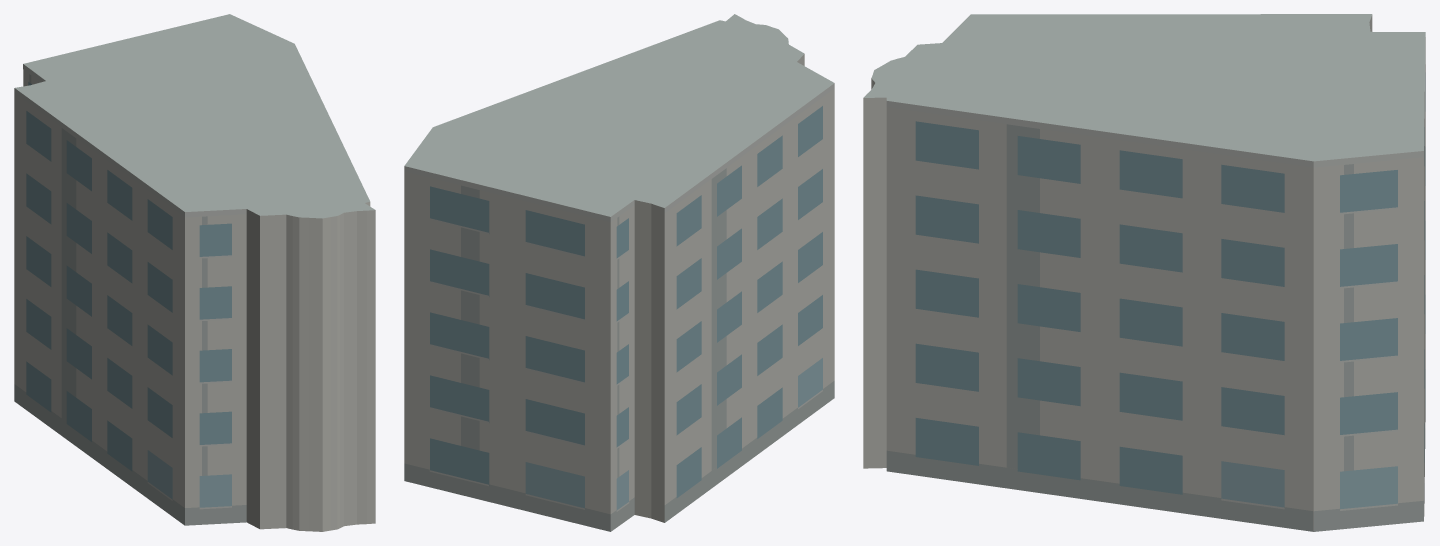
File: survey-upis-32791846.glb
The picture shows the model from 3 angles, left to right: view 1: azimuth 30°, elevation 25°; view 2: azimuth 150°, elevation 25°; view 3: azimuth 270°, elevation 25°; orthographic projection. The views are drawn at different scales.
Parts seen in each view (by area): view 1: survey-upis-32791846.tmp; view 2: survey-upis-32791846.tmp; view 3: survey-upis-32791846.tmp.
Part boxes in pixels (x1,y1,x2,y2): survey-upis-32791846.tmp: [14, 14, 375, 531]; survey-upis-32791846.tmp: [404, 14, 834, 531]; survey-upis-32791846.tmp: [863, 14, 1425, 531].
Bounding box in the file's own units: 11.95 × 14 × 19.27.
